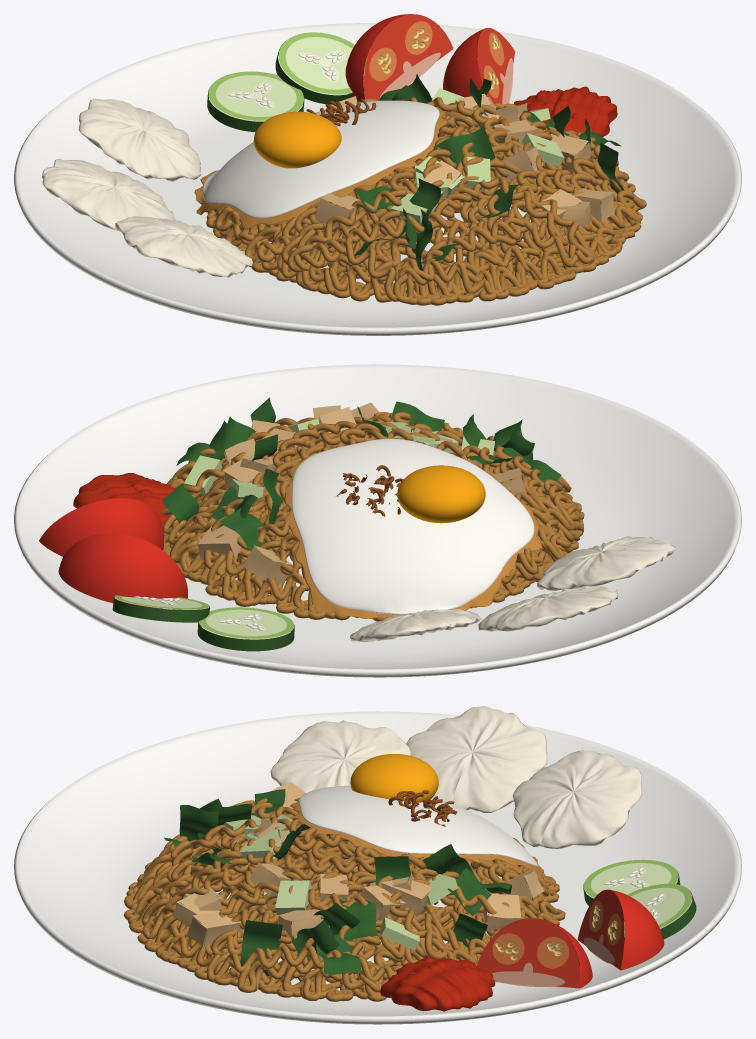
File: indomie-goreng-telorfix.glb
The picture shows the model from 3 angles, top to bottom: view 1: azimuth 30°, elevation 25°; view 2: azimuth 150°, elevation 25°; view 3: azimuth 270°, elevation 25°; orthographic projection.
Visible parts, largest first — view 1: piring, mie_goreng, kerupuk, putih_telur, sawi, ayam, daging_timun, daging_tomat, kuning_telur, tomat, sambal, batang_sawi (+9 smaller); view 2: piring, putih_telur, mie_goreng, tomat, kerupuk, sawi, ayam, kuning_telur, pinggiran_garing, kulit_timun, sambal, daging_timun (+3 smaller); view 3: piring, mie_goreng, kerupuk, sawi, putih_telur, ayam, sambal, daging_tomat, batang_sawi, kuning_telur, tomat, daging_timun (+7 smaller).
Part boxes in pixels (left/top/right/bottom): piring: left=14, top=23, right=741, bottom=335; mie_goreng: left=206, top=97, right=646, bottom=305; kerupuk: left=42, top=98, right=252, bottom=277; putih_telur: left=203, top=100, right=439, bottom=218; sawi: left=353, top=74, right=623, bottom=270; ayam: left=315, top=93, right=614, bottom=227; daging_timun: left=208, top=37, right=364, bottom=121; daging_tomat: left=363, top=14, right=515, bottom=103; kuning_telur: left=253, top=111, right=341, bottom=168; tomat: left=345, top=14, right=490, bottom=101; sambal: left=513, top=86, right=617, bottom=136; batang_sawi: left=390, top=88, right=564, bottom=224; piring: left=14, top=364, right=741, bottom=677; putih_telur: left=291, top=438, right=534, bottom=614; mie_goreng: left=160, top=412, right=584, bottom=621; tomat: left=39, top=498, right=187, bottom=608; kerupuk: left=350, top=536, right=676, bottom=641; sawi: left=162, top=397, right=561, bottom=551; ayam: left=197, top=402, right=526, bottom=584; kuning_telur: left=397, top=465, right=485, bottom=523; pinggiran_garing: left=284, top=439, right=542, bottom=618; kulit_timun: left=112, top=597, right=294, bottom=651; sambal: left=73, top=473, right=175, bottom=525; daging_timun: left=114, top=596, right=293, bottom=651; piring: left=14, top=711, right=741, bottom=1024; mie_goreng: left=123, top=798, right=565, bottom=1001; kerupuk: left=270, top=706, right=641, bottom=848; sawi: left=164, top=789, right=511, bottom=975; putih_telur: left=298, top=785, right=538, bottom=866; ayam: left=172, top=782, right=544, bottom=948; sambal: left=380, top=957, right=495, bottom=1011; daging_tomat: left=477, top=889, right=656, bottom=988; batang_sawi: left=223, top=814, right=458, bottom=950; kuning_telur: left=350, top=754, right=438, bottom=801; tomat: left=481, top=889, right=664, bottom=987; daging_timun: left=584, top=863, right=692, bottom=936.
Bounding box in the file's own units: 0.2636 × 0.0484 × 0.2636.
